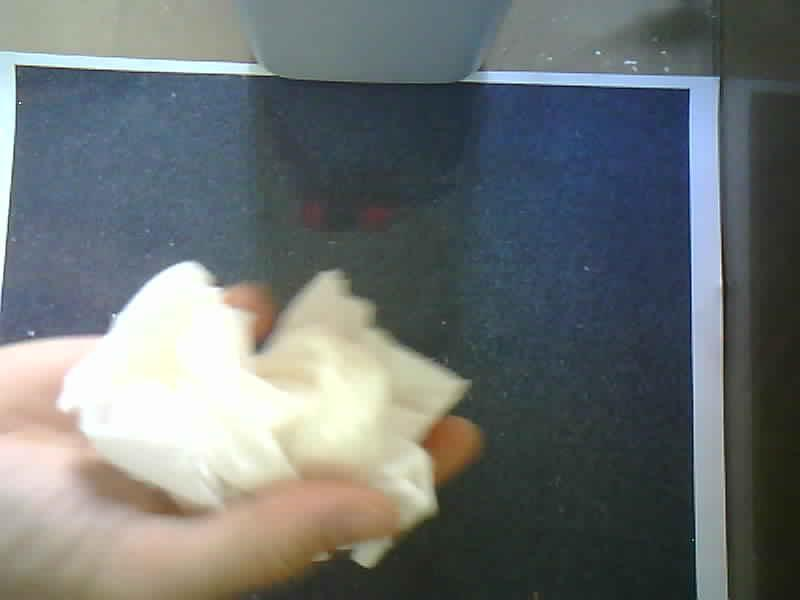paper: (57, 257, 469, 575)
